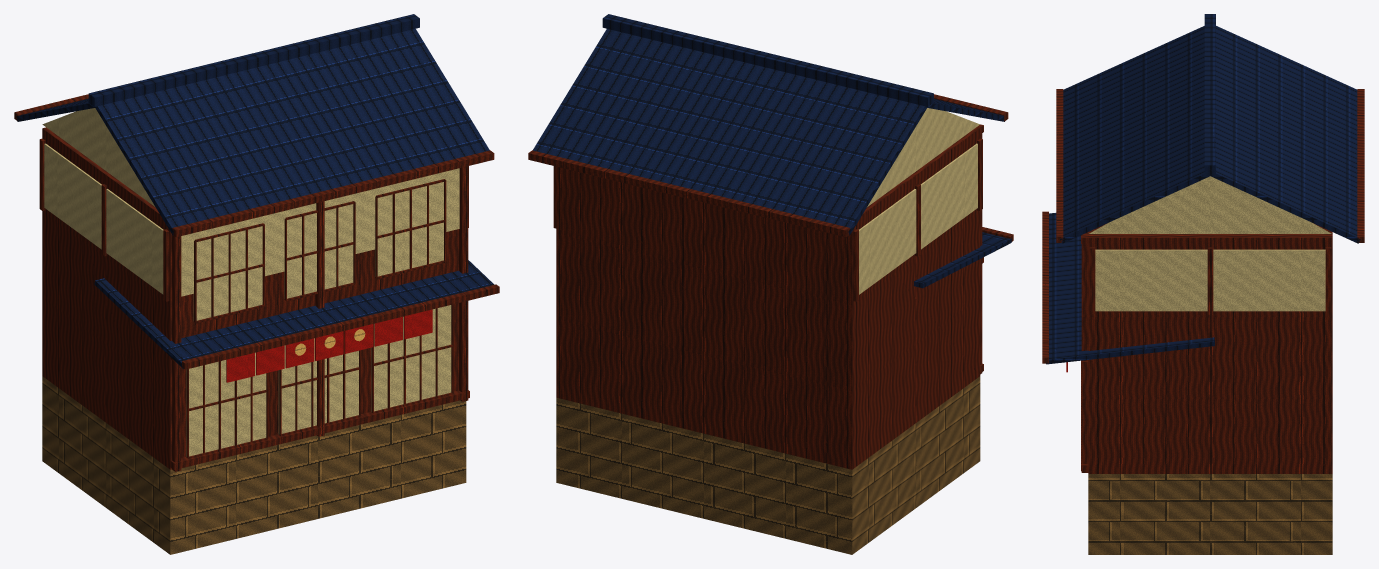
Rendered from two_story_inn.glb.
3 renders of one model, left to right at view 1: azimuth 30°, elevation 25°; view 2: azimuth 150°, elevation 25°; view 3: azimuth 270°, elevation 25°, orthographic. The views are drawn at different scales.
Visible parts, largest first — view 1: Body, Roof; view 2: Body, Roof; view 3: Body, Roof.
Boxes of the visible parts, left/top/right/bottom form: Body: left=39, top=127, right=499, bottom=554; Roof: left=14, top=14, right=494, bottom=368; Body: left=553, top=124, right=1013, bottom=554; Roof: left=528, top=14, right=1011, bottom=288; Body: left=1042, top=211, right=1332, bottom=554; Roof: left=1046, top=14, right=1364, bottom=364.
Bounding box in the file's own units: 8.8 × 10.75 × 7.92.
6 materials, 6 textured.
